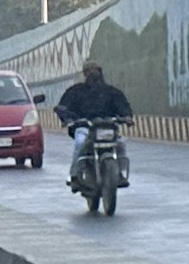BikeWithRider: (51, 55, 136, 216)
NoHelmet: (79, 56, 106, 84)
